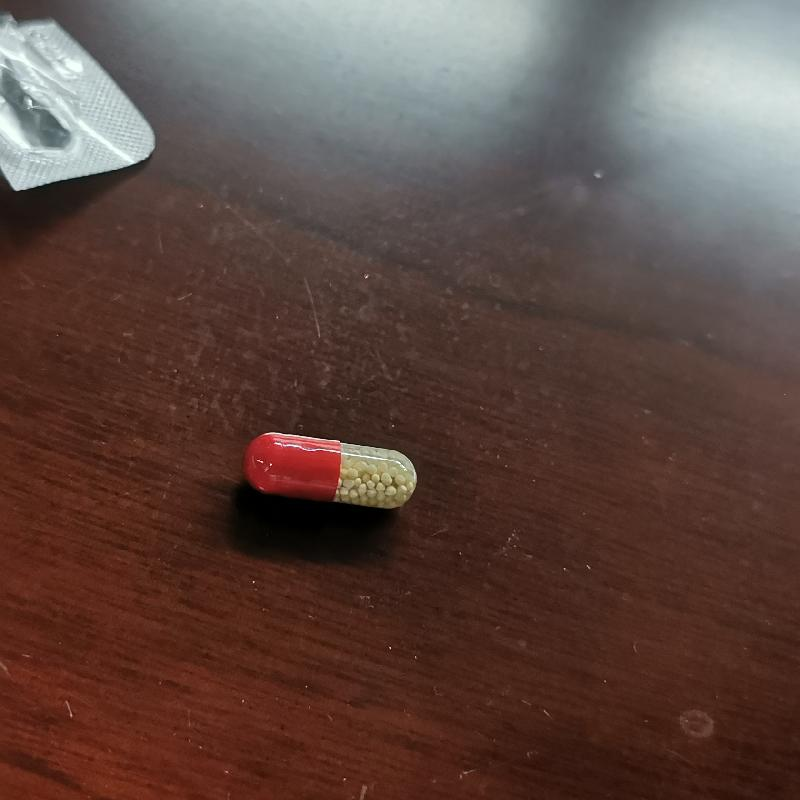pills: (242, 426, 422, 521)
